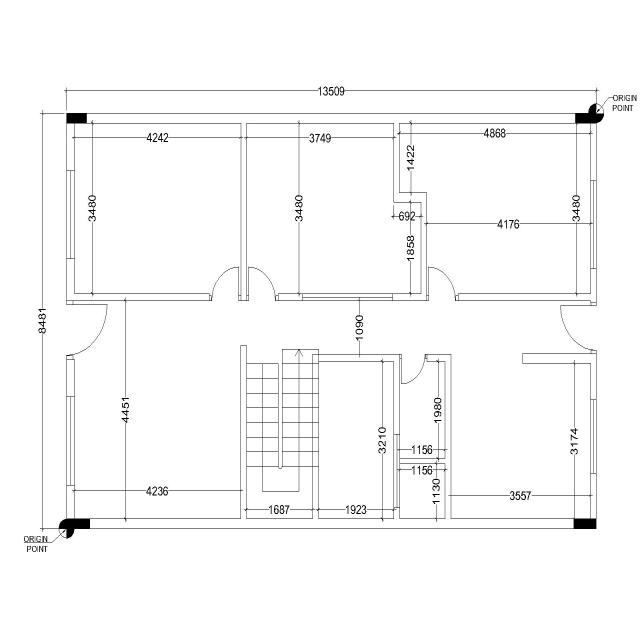Column: (66, 519, 90, 529), (66, 113, 87, 124), (574, 519, 596, 529), (576, 113, 596, 124)
Door: (66, 301, 108, 360), (560, 302, 596, 354), (209, 266, 241, 301), (246, 266, 278, 301), (426, 266, 458, 301), (400, 354, 427, 385)
Staircase: (247, 301, 318, 519)
Window: (66, 396, 75, 486), (66, 170, 75, 259), (302, 293, 393, 301), (590, 180, 596, 269), (590, 399, 596, 474), (394, 434, 400, 508)
